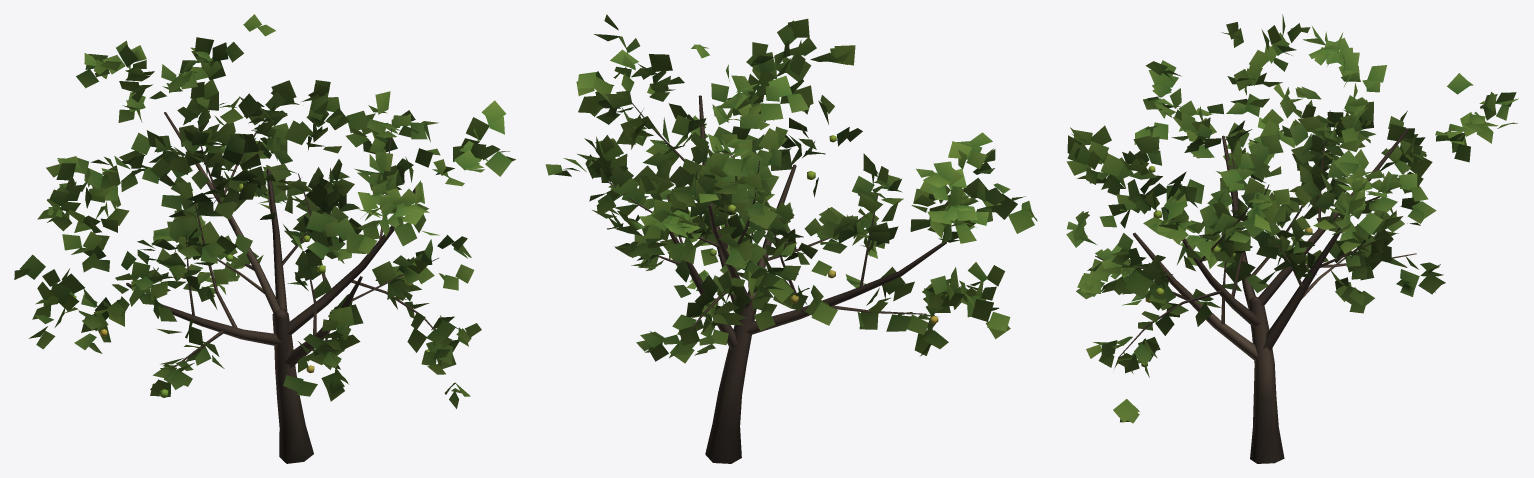
File: apple-b.lod1.glb
The picture shows the model from 3 angles, left to right: view 1: azimuth 30°, elevation 25°; view 2: azimuth 150°, elevation 25°; view 3: azimuth 270°, elevation 25°; orthographic projection. The views are drawn at different scales.
Size of the model in its own units: 6.23 by 5.5 by 5.46.
